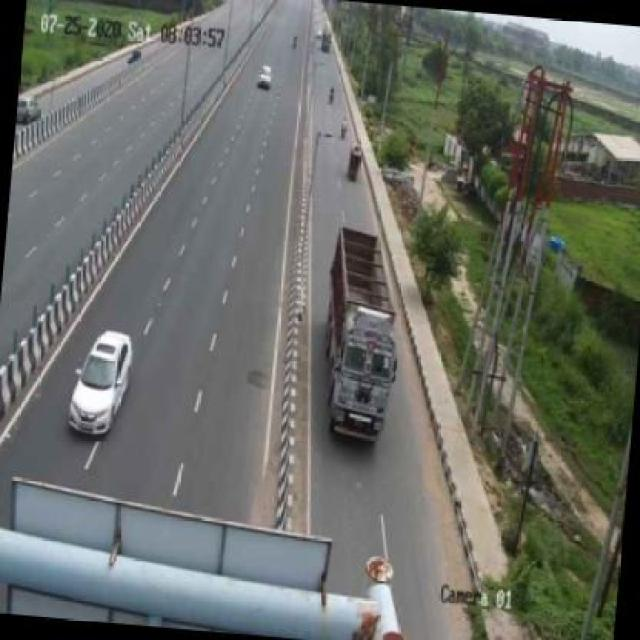car: (67, 326, 142, 445), (342, 140, 372, 186), (254, 58, 280, 91)
